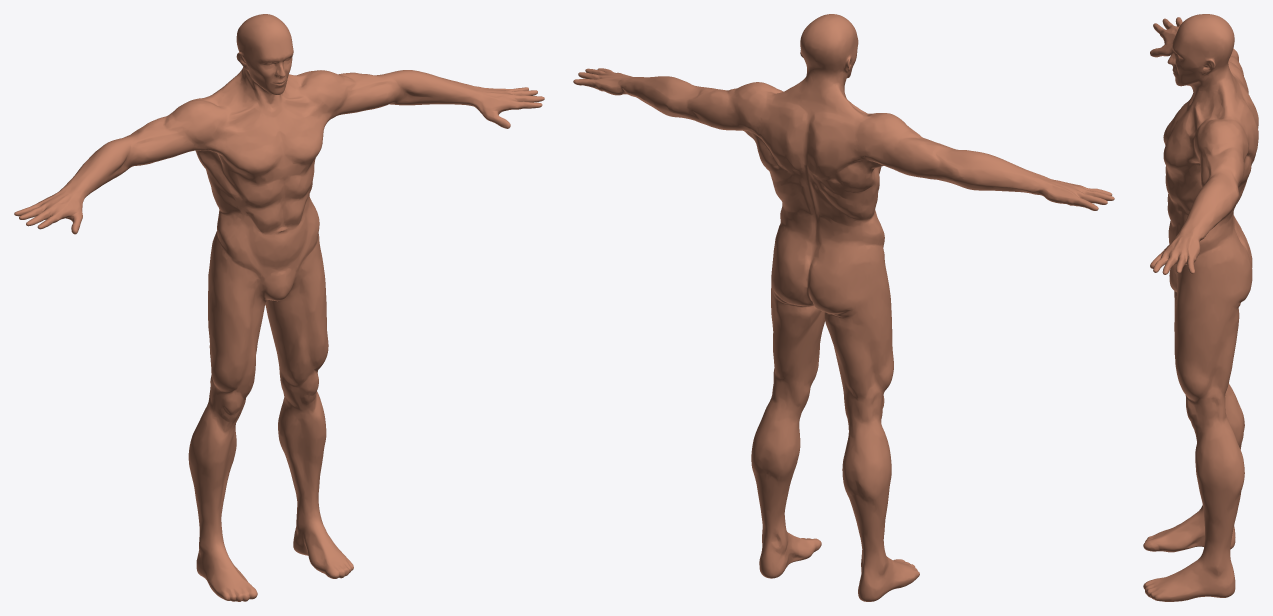
Rendered from male_body.glb.
The picture shows the model from 3 angles, left to right: view 1: azimuth 30°, elevation 25°; view 2: azimuth 150°, elevation 25°; view 3: azimuth 270°, elevation 25°; orthographic projection.
Parts seen in each view (by area): view 1: Object_4; view 2: Object_4; view 3: Object_4.
Boxes of the visible parts, <box> form: Object_4: <box>14,14,544,601</box>; Object_4: <box>573,14,1114,601</box>; Object_4: <box>1143,14,1258,601</box>.
Size of the model in its own units: 1.66 by 1.69 by 0.3182.
